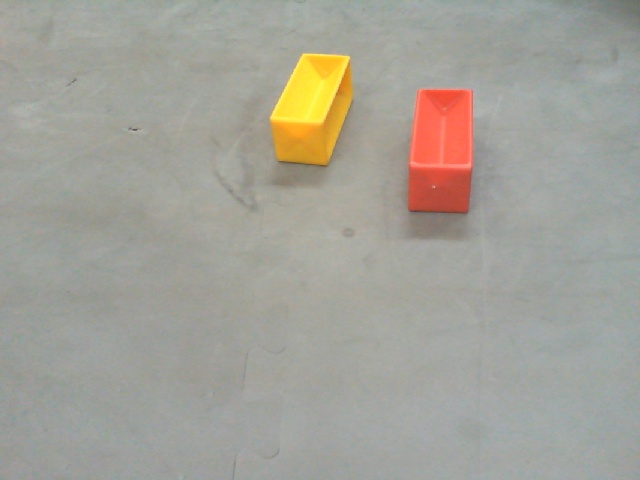RedSample: (406, 87, 472, 214)
YellowSample: (267, 50, 355, 168)
